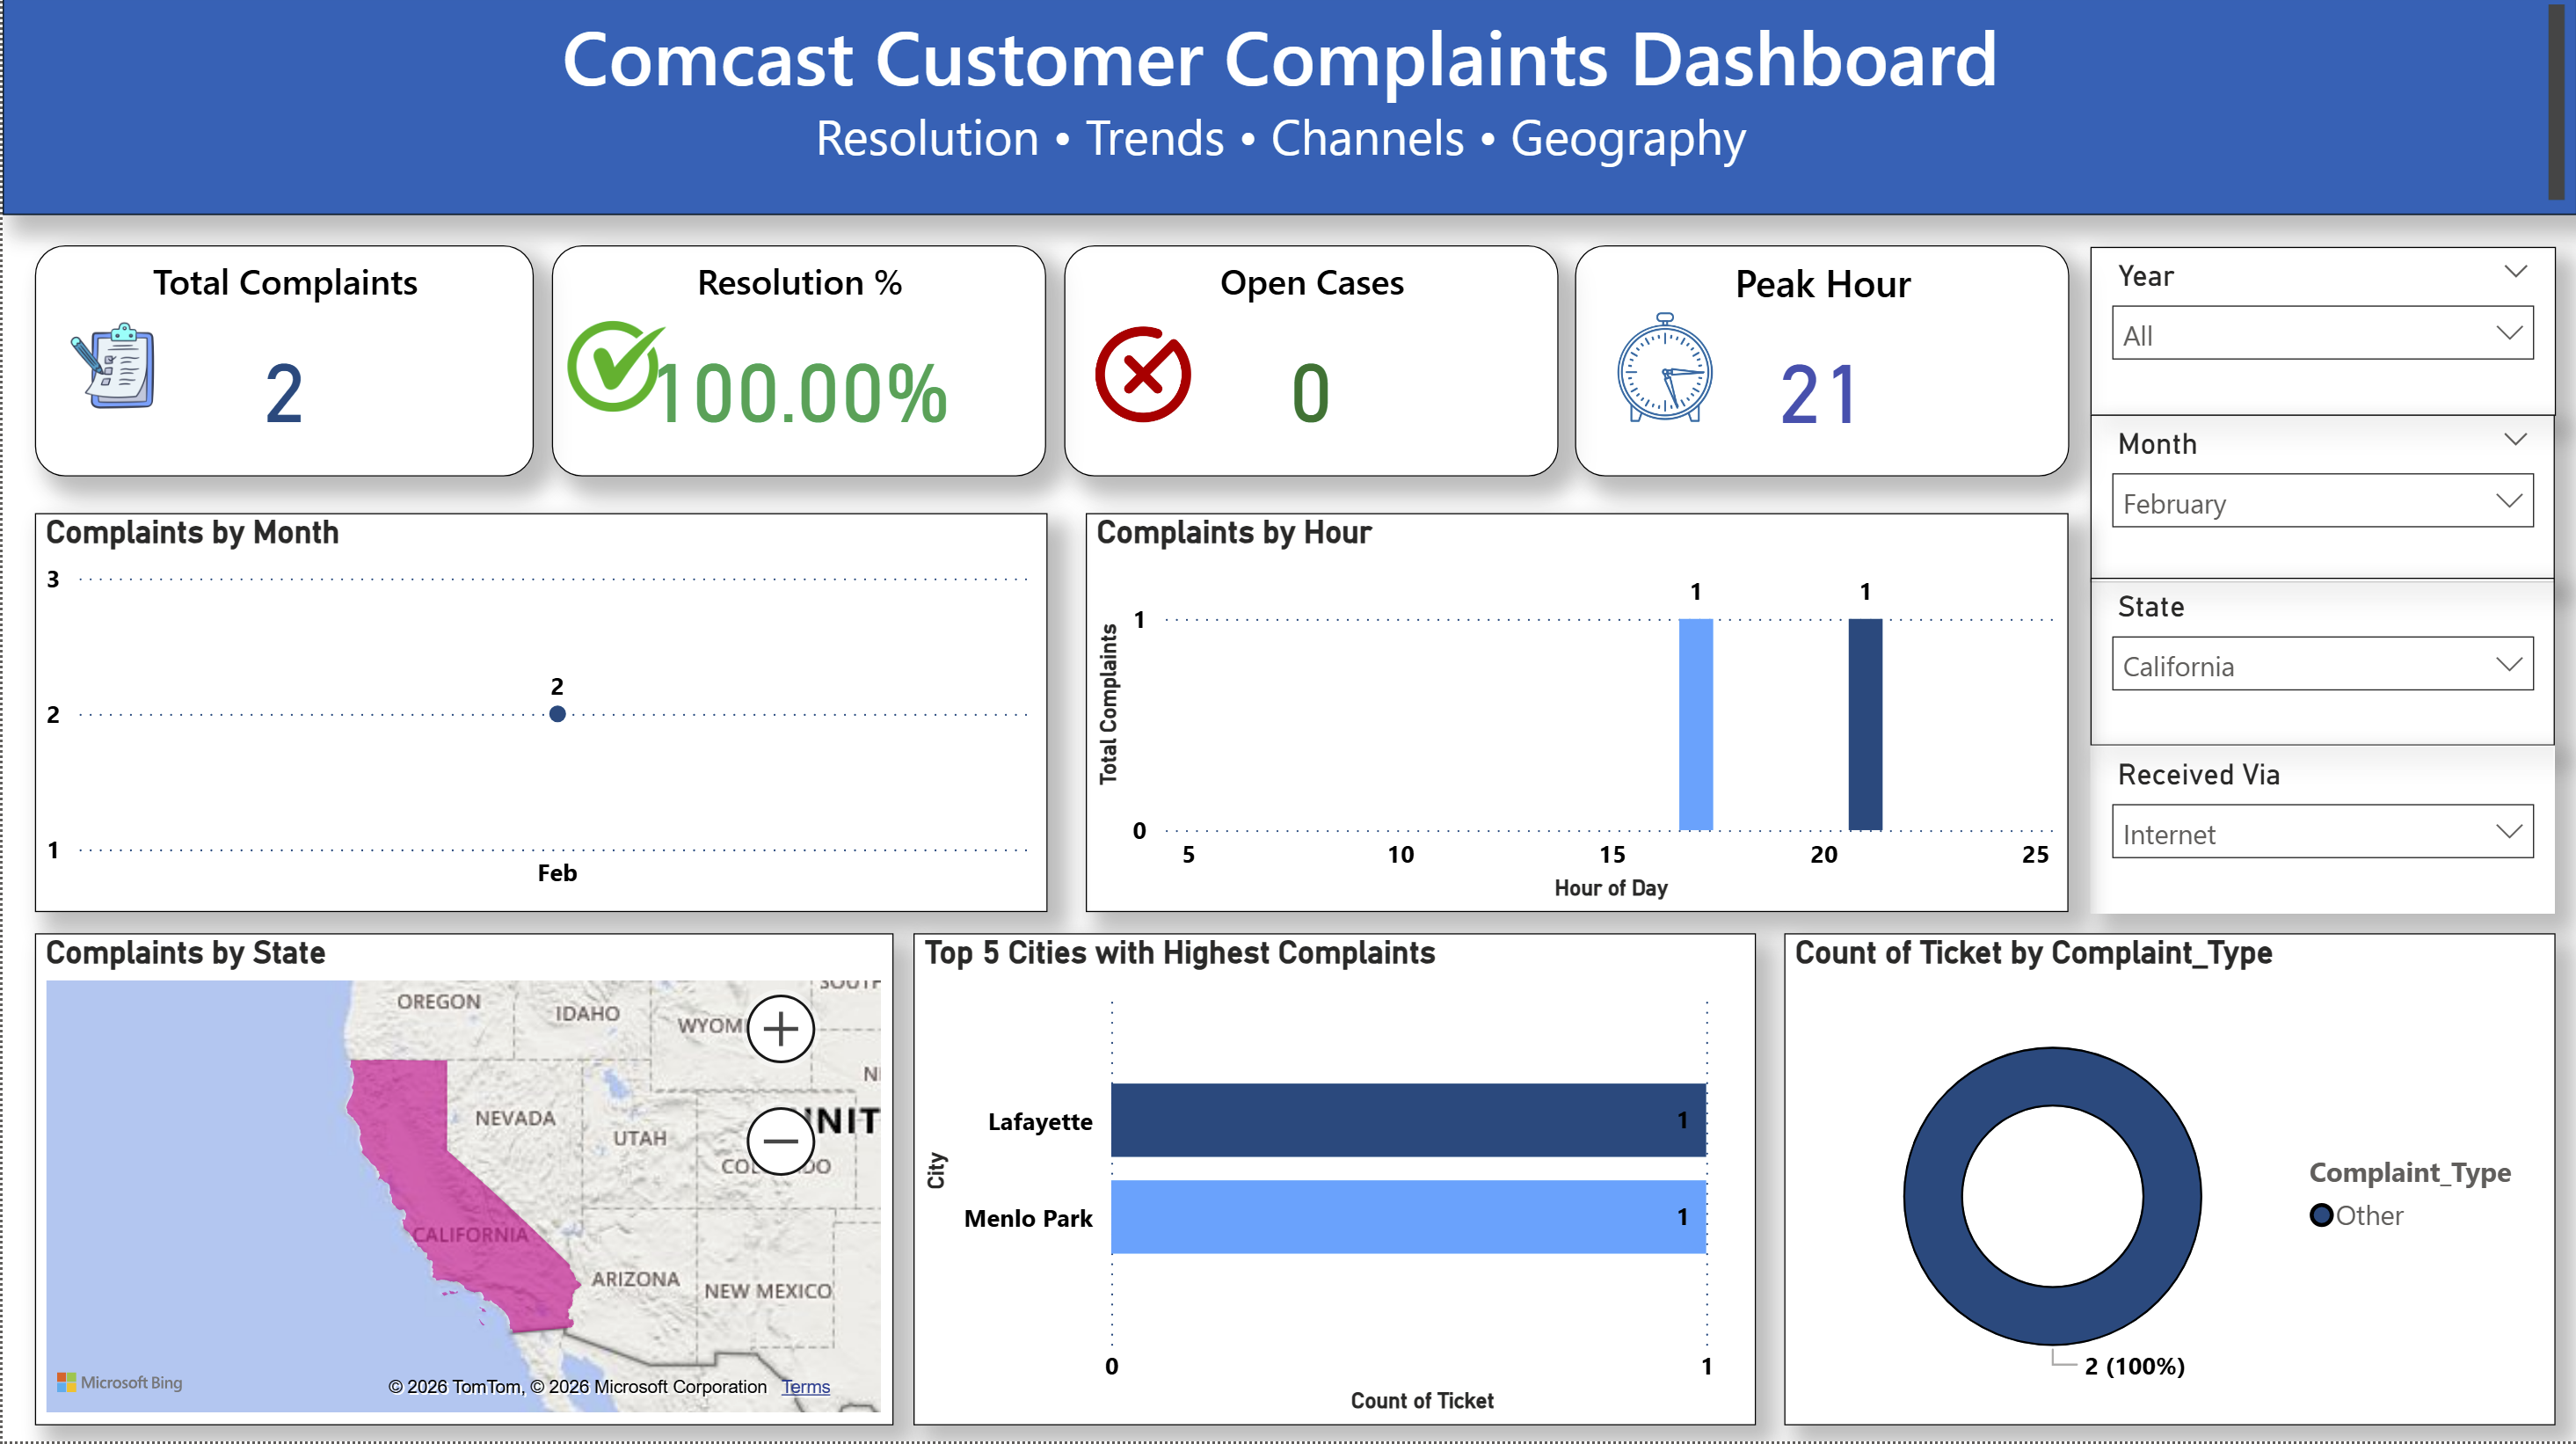

The page's visual inventory and layout, read from the dashboard file:
{"tool":"powerbi","page":{"name":"Page 1","canvas":[1280,720],"ordinal":0},"visuals":[{"type":"textbox","box":[0,0,1280,110.1],"z":0},{"type":"card","title":"Total Complaints","fields":{"Values":["Comcast.Total Complaints"]},"box":[15.7,125.8,248,114.9],"z":1000},{"type":"card","title":"Resolution %","fields":{"Values":["Comcast.Resolution %"]},"box":[273.4,125.8,245.6,114.9],"z":2000},{"type":"card","title":"Open Cases","fields":{"Values":["Comcast.Open Cases"]},"box":[527.5,125.8,245.6,114.9],"z":3000},{"type":"card","title":"Peak Hour","fields":{"Values":["Comcast.Peak Hour"]},"box":[781.6,125.8,245.6,114.9],"z":4000},{"type":"slicer","fields":{"Values":["Comcast.Date.Variation.Date Hierarchy.Year"]},"box":[1038.3,126.4,231.3,84.3],"z":5000},{"type":"slicer","fields":{"Values":["Comcast.Date.Variation.Date Hierarchy.Month"]},"box":[1038,209.3,231.1,83.5],"z":6000},{"type":"slicer","fields":{"Values":["Comcast.State"]},"box":[1038,290.4,231.1,83.5],"z":7000},{"type":"slicer","fields":{"Values":["Comcast.Received Via"]},"box":[1038,373.8,231.1,83.5],"z":8000},{"type":"clusteredColumnChart","title":"Complaints by Hour","fields":{"Category":["Comcast.Hour"],"Y":["CountNonNull(Comcast.Ticket)"]},"box":[538.4,258.9,488.8,198.4],"z":9000},{"type":"lineChart","title":"Complaints by Month","fields":{"Category":["Comcast.Month Name1"],"Y":["CountNonNull(Comcast.Ticket)"]},"box":[15.7,258.9,503.3,198.4],"z":10000},{"type":"filledMap","title":"Complaints by State","fields":{"Category":["Comcast.State"],"Series":["Comcast.Ticket"]},"box":[15.7,467,427.1,244.4],"z":11000},{"type":"barChart","title":"Top 5 Cities with Highest Complaints","fields":{"Y":["CountNonNull(Comcast.Ticket)"],"Category":["Comcast.City"]},"box":[452.5,467,418.6,244.4],"z":12000},{"type":"donutChart","fields":{"Category":["Comcast.Complaint_Type"],"Y":["CountNonNull(Comcast.Ticket)"]},"box":[885.6,467,383.5,244.4],"z":13000},{"type":"image","box":[24.3,160.1,59.9,50.6],"z":14000},{"type":"image","box":[278.1,160.1,53.4,51.5],"z":15000},{"type":"image","box":[538.3,160.1,57.1,59.9],"z":16000},{"type":"image","box":[782.7,154.5,88,62.7],"z":17000}]}

Visuals, with their boxes in screenshot pixels (x1, y1, x2, y2), scaled from the page's 1280x720 canvas onto the 2576x1444 screenshot:
textbox: pyautogui.locateOnScreen(0, 0, 2575, 221)
"Total Complaints" card: pyautogui.locateOnScreen(32, 252, 531, 483)
"Resolution %" card: pyautogui.locateOnScreen(550, 252, 1044, 483)
"Open Cases" card: pyautogui.locateOnScreen(1061, 252, 1556, 483)
"Peak Hour" card: pyautogui.locateOnScreen(1573, 252, 2067, 483)
slicer - Comcast.Date.Variation.Date Hierarchy.Year: pyautogui.locateOnScreen(2090, 253, 2555, 423)
slicer - Comcast.Date.Variation.Date Hierarchy.Month: pyautogui.locateOnScreen(2089, 419, 2554, 587)
slicer - Comcast.State: pyautogui.locateOnScreen(2089, 582, 2554, 750)
slicer - Comcast.Received Via: pyautogui.locateOnScreen(2089, 749, 2554, 917)
"Complaints by Hour" clusteredColumnChart: pyautogui.locateOnScreen(1083, 519, 2067, 917)
"Complaints by Month" lineChart: pyautogui.locateOnScreen(32, 519, 1044, 917)
"Complaints by State" filledMap: pyautogui.locateOnScreen(32, 937, 891, 1426)
"Top 5 Cities with Highest Complaints" barChart: pyautogui.locateOnScreen(911, 937, 1753, 1426)
donutChart - Comcast.Complaint_Type x CountNonNull(Comcast.Ticket): pyautogui.locateOnScreen(1782, 937, 2554, 1426)
image: pyautogui.locateOnScreen(49, 321, 170, 423)
image: pyautogui.locateOnScreen(560, 321, 667, 425)
image: pyautogui.locateOnScreen(1083, 321, 1198, 441)
image: pyautogui.locateOnScreen(1575, 310, 1752, 435)
